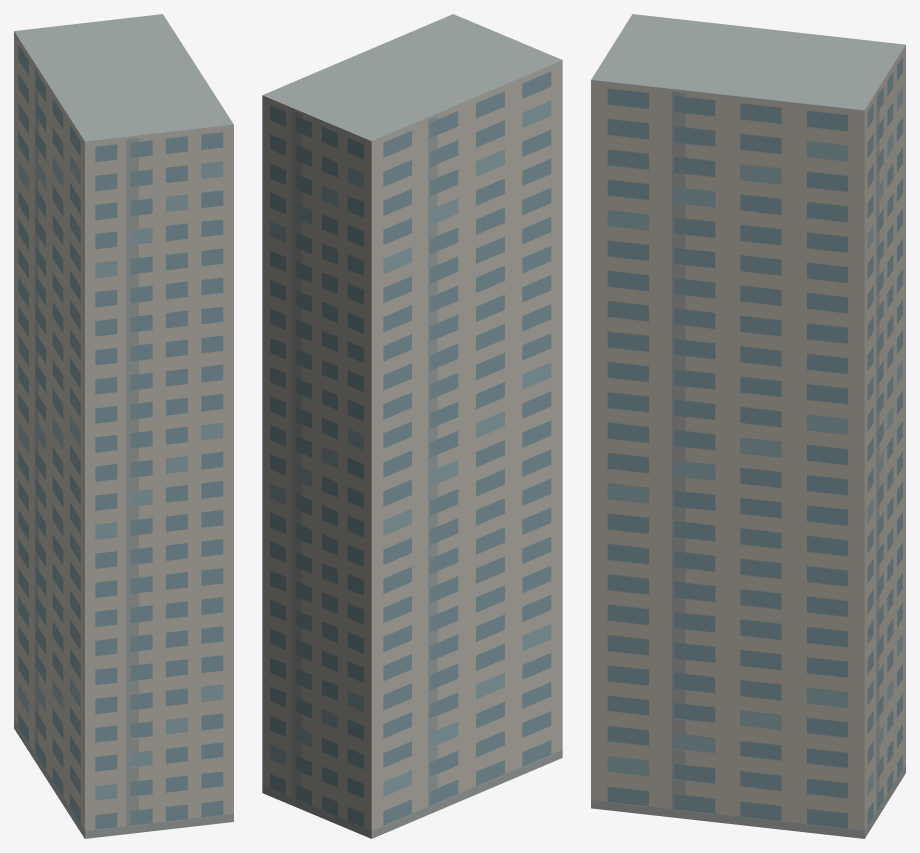
File: residential-5ffec150-2a79-4581-8599-3dc2a60b75c9.glb
The picture shows the model from 3 angles, left to right: view 1: azimuth 30°, elevation 25°; view 2: azimuth 150°, elevation 25°; view 3: azimuth 270°, elevation 25°; orthographic projection. The views are drawn at different scales.
Visible parts, largest first — view 1: residential-5ffec150-2a79-4581-8599-3dc2a60b75c9.tmp; view 2: residential-5ffec150-2a79-4581-8599-3dc2a60b75c9.tmp; view 3: residential-5ffec150-2a79-4581-8599-3dc2a60b75c9.tmp.
Boxes of the visible parts, <box> form: residential-5ffec150-2a79-4581-8599-3dc2a60b75c9.tmp: <box>14,14,233,838</box>; residential-5ffec150-2a79-4581-8599-3dc2a60b75c9.tmp: <box>262,14,562,838</box>; residential-5ffec150-2a79-4581-8599-3dc2a60b75c9.tmp: <box>591,14,905,838</box>.
Size of the model in its own units: 19.31 by 68 by 26.64.
